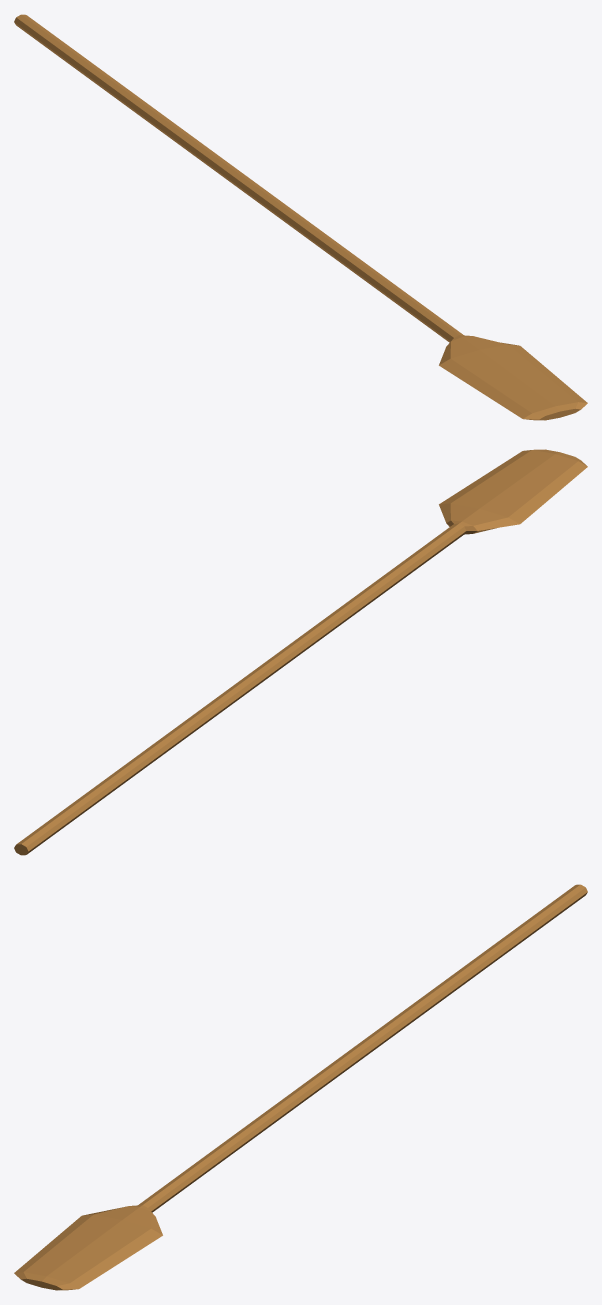
File: SM_Oar_001.fbx
3 views of the same model, one above another, from view 1: azimuth 30°, elevation 25°; view 2: azimuth 150°, elevation 25°; view 3: azimuth 330°, elevation 25° (orthographic).
Parts seen in each view (by area): view 1: Oar; view 2: Oar; view 3: Oar.
Boxes of the visible parts, x1,y1,x2,y2 form: Oar: (14, 14, 587, 420); Oar: (14, 449, 587, 855); Oar: (14, 884, 587, 1290).
Bounding box in the file's own units: 15 × 2 × 172.
